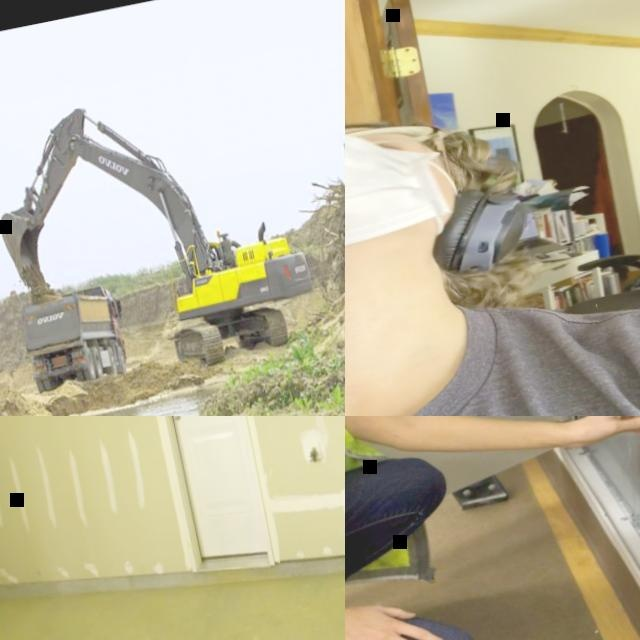Mask: (345, 107, 473, 276)
NO-Hardhat: (420, 96, 543, 202)
NO-Safety Vest: (345, 257, 640, 416)
Person: (345, 66, 640, 416), (345, 416, 640, 640)
Safety Vest: (345, 416, 470, 640)
machinery: (0, 66, 324, 401), (15, 281, 136, 395)
